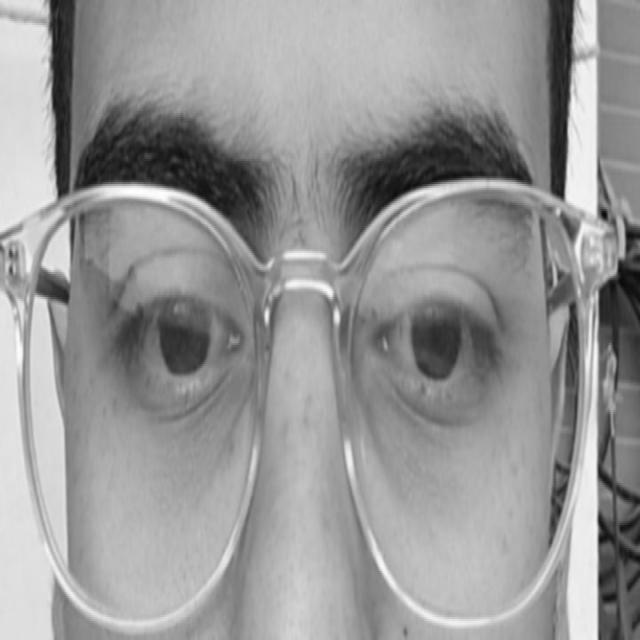real: (79, 136, 536, 487)
